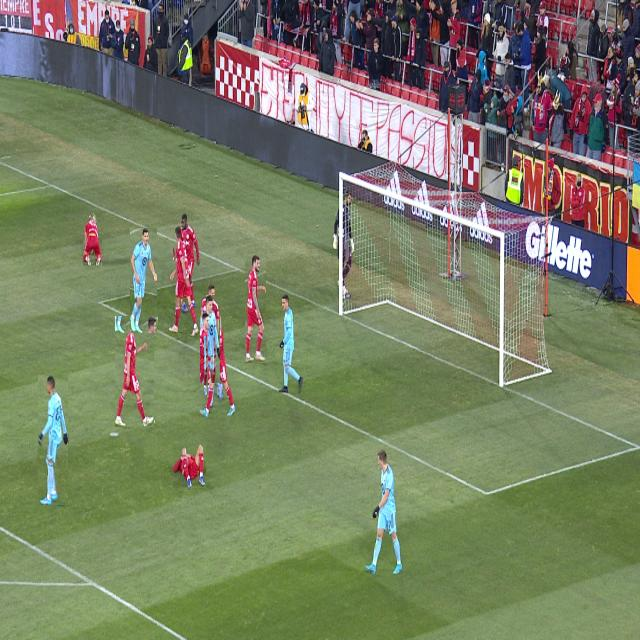player: (366, 449, 402, 575), (116, 316, 154, 427), (39, 376, 68, 505), (200, 313, 235, 418), (169, 226, 198, 336), (131, 228, 157, 333), (278, 294, 303, 394), (246, 255, 266, 363), (181, 214, 200, 307), (201, 295, 220, 383), (173, 444, 206, 488), (83, 213, 102, 267), (202, 285, 221, 334), (214, 379, 223, 401), (205, 337, 208, 395), (210, 383, 214, 407), (182, 300, 188, 312), (174, 246, 176, 262), (217, 375, 220, 383), (217, 387, 219, 396)
